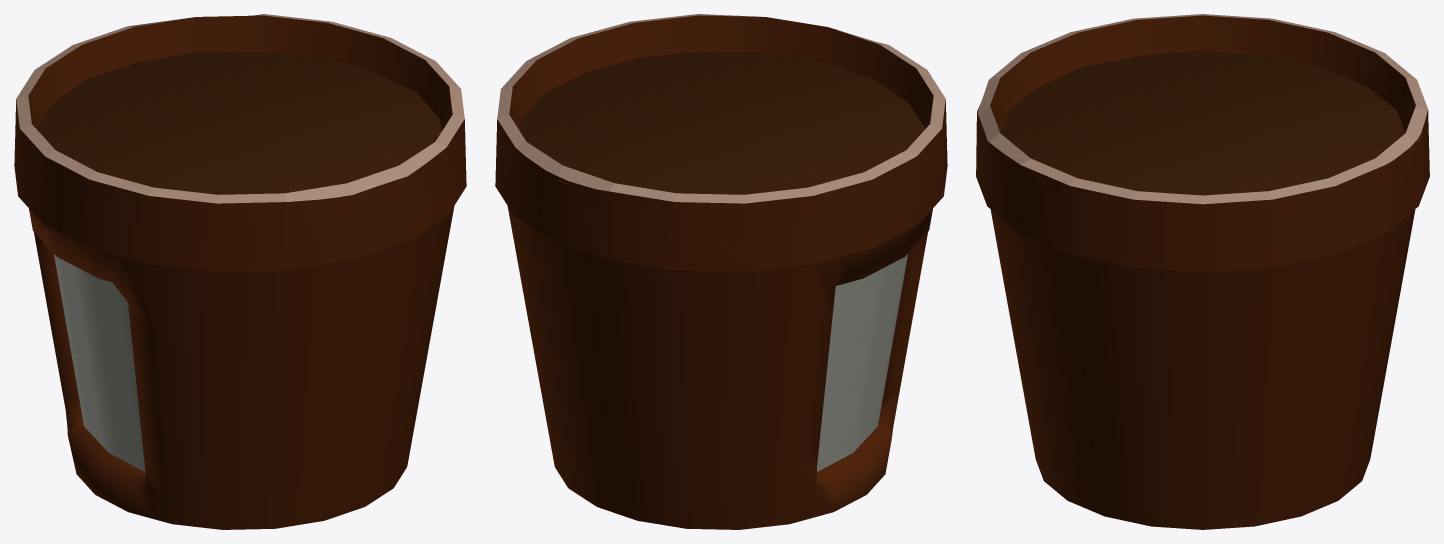
The model's file is smart_pot.glb.
3 views of the same model, side by side, from view 1: azimuth 30°, elevation 25°; view 2: azimuth 150°, elevation 25°; view 3: azimuth 270°, elevation 25° (orthographic).
Visible parts, largest first — view 1: polySurface8, polySurface8.002, ScreenFace, polySurface8.001; view 2: polySurface8, polySurface8.002, ScreenFace, polySurface8.001; view 3: polySurface8, polySurface8.002, polySurface8.001.
Boxes of the visible parts, left/top/right/bottom form: polySurface8: left=14, top=15, right=466, bottom=529; polySurface8.002: left=37, top=51, right=441, bottom=194; ScreenFace: left=54, top=254, right=145, bottom=472; polySurface8.001: left=16, top=14, right=464, bottom=203; polySurface8: left=495, top=15, right=947, bottom=529; polySurface8.002: left=520, top=51, right=924, bottom=194; ScreenFace: left=817, top=254, right=907, bottom=471; polySurface8.001: left=497, top=14, right=945, bottom=203; polySurface8: left=976, top=15, right=1429, bottom=529; polySurface8.002: left=1000, top=50, right=1405, bottom=195; polySurface8.001: left=977, top=14, right=1427, bottom=204.
Size of the model in its own units: 0.1094 by 0.0941 by 0.1094.
